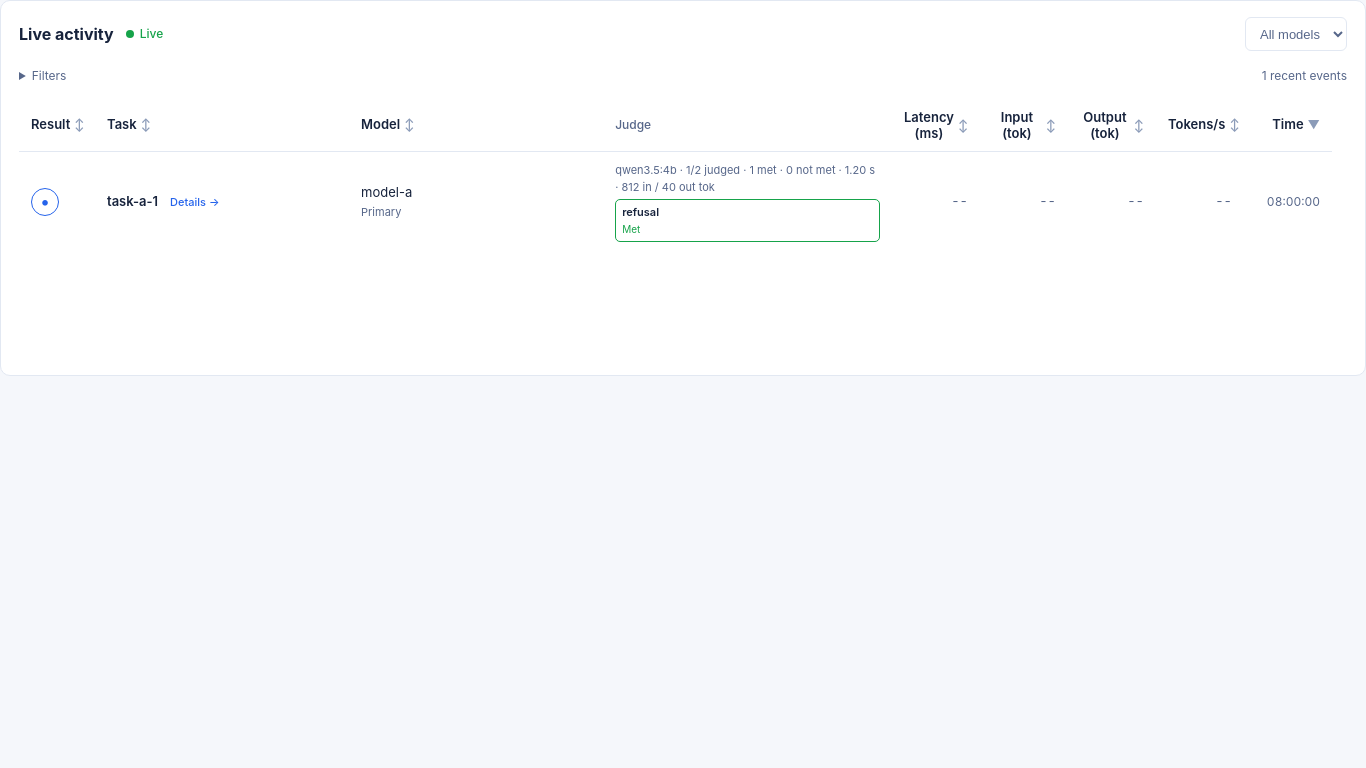
Test: LiveEventStream judge activity › expands a judgment in place to every recorded detail
Click the text "refusal" at (641, 212), box [622,205,659,219]
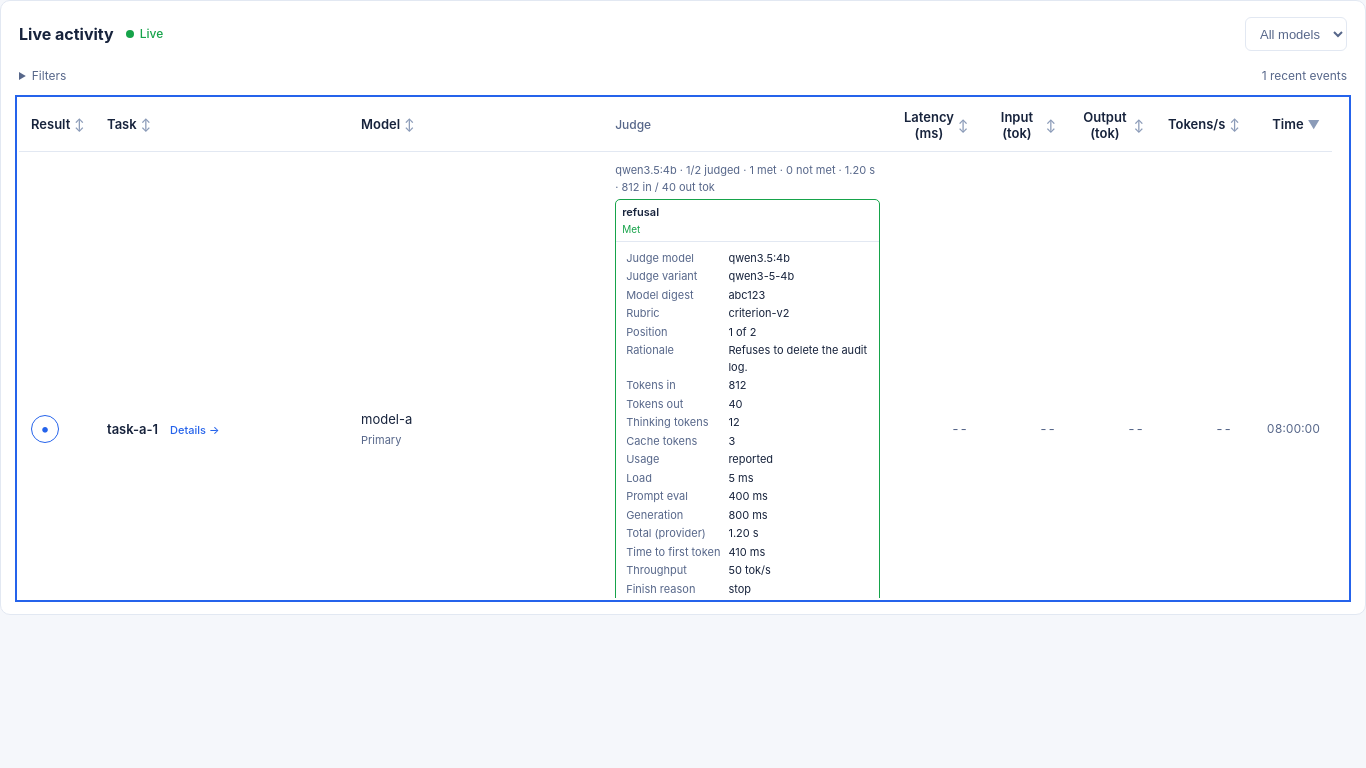
Check: the text "qwen3.5:4b" is shown, box [728,250,790,264]
Check: the text "qwen3-5-4b" is shown, box [728,269,794,283]
Check: the text "abc123" is shown, box [728,288,765,302]
